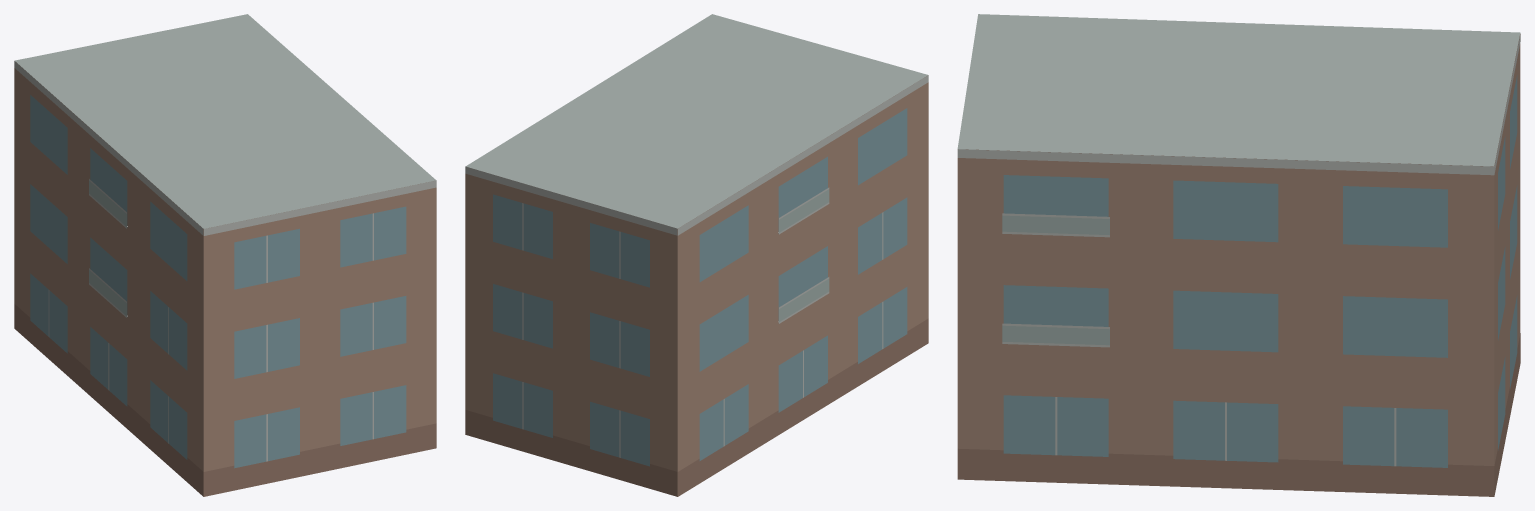
File: survey-upis-32503822.glb
3 renders of one model, left to right at view 1: azimuth 30°, elevation 25°; view 2: azimuth 150°, elevation 25°; view 3: azimuth 270°, elevation 25°, orthographic. The views are drawn at different scales.
Visible parts, largest first — view 1: survey-upis-32503822.tmp; view 2: survey-upis-32503822.tmp; view 3: survey-upis-32503822.tmp.
Boxes of the visible parts, box(x1,y1,x2,y2) form: survey-upis-32503822.tmp: box(14, 14, 436, 496); survey-upis-32503822.tmp: box(465, 14, 928, 496); survey-upis-32503822.tmp: box(957, 14, 1520, 496).
Bounding box in the file's own units: 9.06 × 9.15 × 14.14.
